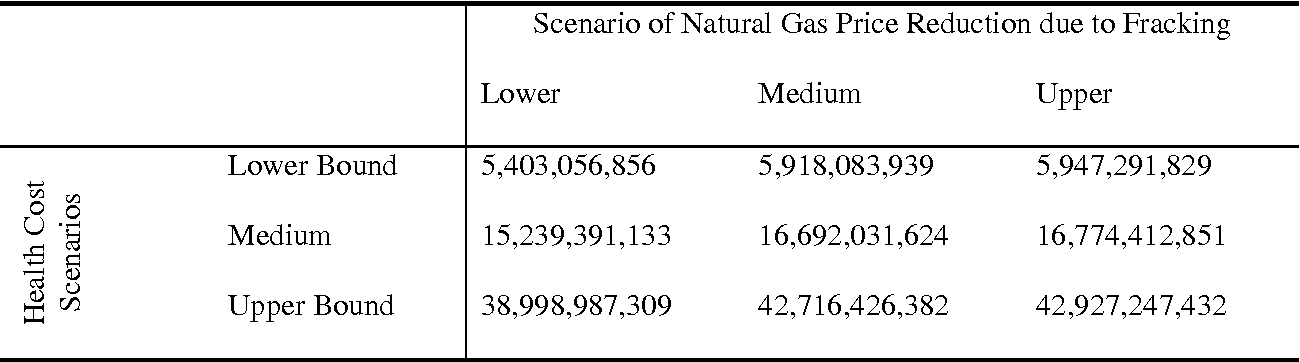fracking table: (1, 1, 1300, 362)
